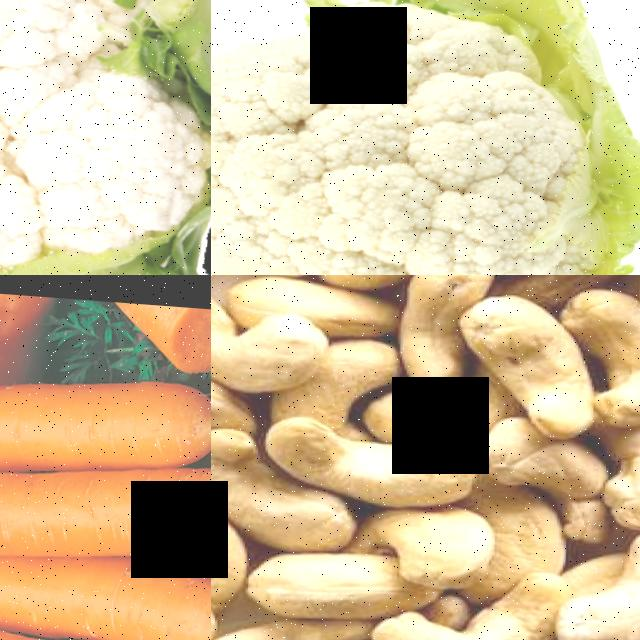carrot: (0, 436, 211, 587), (0, 361, 211, 484)
cashew: (257, 418, 503, 518), (468, 290, 603, 434), (370, 275, 511, 385), (211, 293, 355, 394), (373, 569, 562, 640), (550, 509, 640, 640), (580, 285, 640, 412), (211, 592, 332, 640), (596, 425, 640, 522), (211, 351, 257, 431)
cauliflower: (211, 0, 640, 275), (0, 0, 211, 275)
